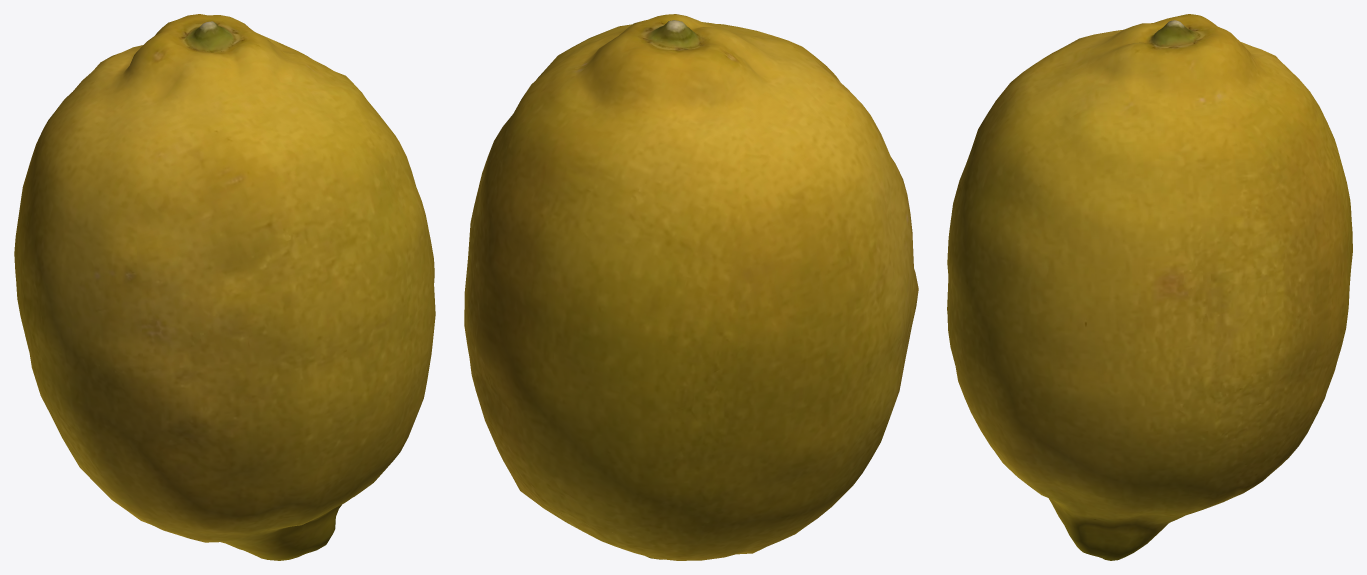
The model's file is lemon.glb.
3 renders of one model, left to right at view 1: azimuth 30°, elevation 25°; view 2: azimuth 150°, elevation 25°; view 3: azimuth 270°, elevation 25°, orthographic. The views are drawn at different scales.
Parts seen in each view (by area): view 1: lemon; view 2: lemon; view 3: lemon.
Boxes of the visible parts, x1=… form: lemon: x1=14, y1=14, x2=435, y2=560; lemon: x1=464, y1=14, x2=918, y2=560; lemon: x1=947, y1=14, x2=1352, y2=560.
Bounding box in the file's own units: 0.0687 × 0.0954 × 0.0683.
1 material, 1 textured.
